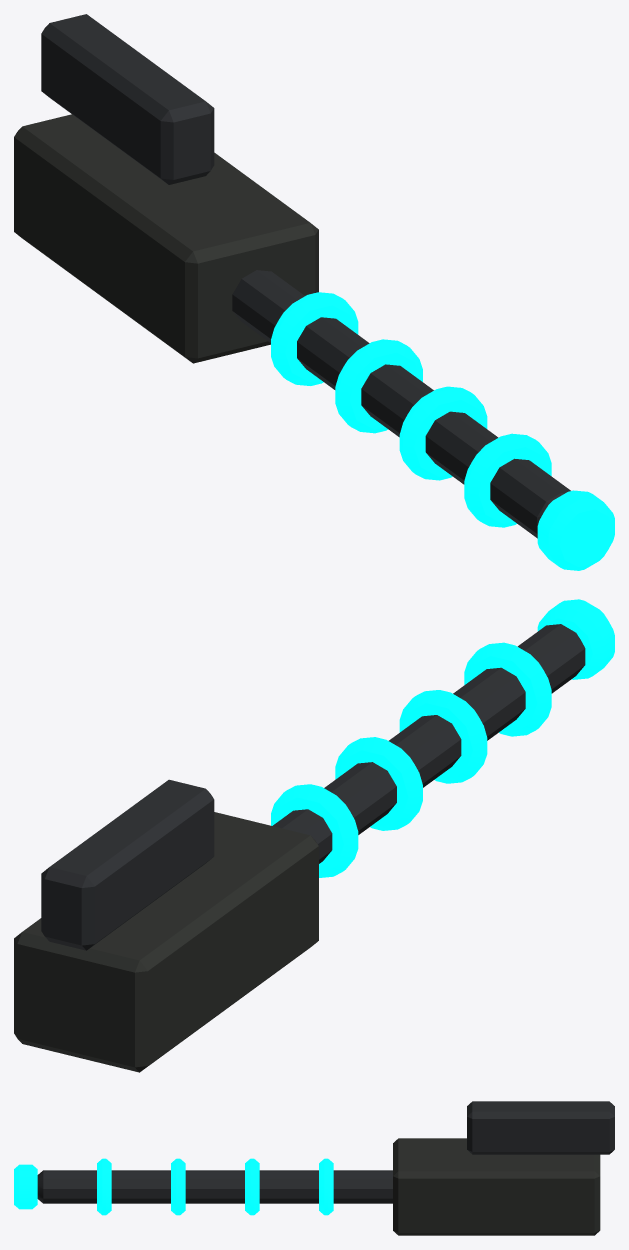
The model's file is Gun_PulseLaser.fbx.
The picture shows the model from 3 angles, top to bottom: view 1: azimuth 30°, elevation 25°; view 2: azimuth 150°, elevation 25°; view 3: azimuth 270°, elevation 25°; orthographic projection. The views are drawn at different scales.
Parts seen in each view (by area): view 1: Gun_PulseLaser; view 2: Gun_PulseLaser; view 3: Gun_PulseLaser.
Boxes of the visible parts, x1,y1,x2,y2 form: Gun_PulseLaser: (14, 14, 614, 570); Gun_PulseLaser: (14, 599, 614, 1072); Gun_PulseLaser: (14, 1101, 614, 1235).
Size of the model in its own units: 0.3 by 0.42 by 2.03.
